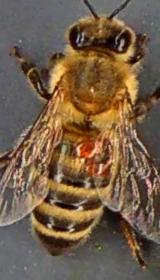varroa_mite: (70, 132, 97, 159)
